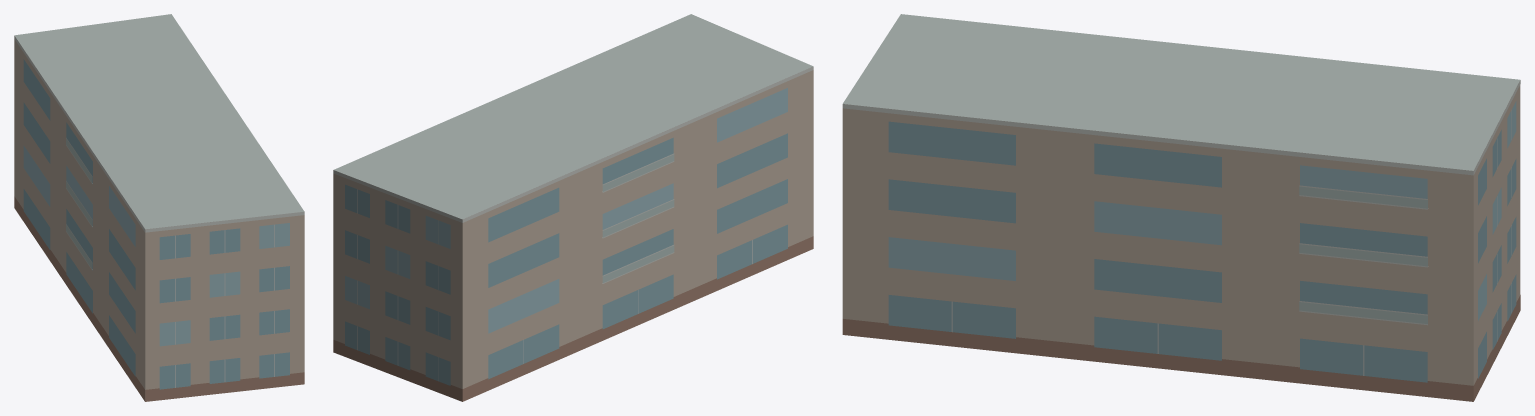
The model's file is survey-upis-32939369.glb.
3 renders of one model, left to right at view 1: azimuth 30°, elevation 25°; view 2: azimuth 150°, elevation 25°; view 3: azimuth 270°, elevation 25°, orthographic. The views are drawn at different scales.
Parts seen in each view (by area): view 1: survey-upis-32939369.tmp; view 2: survey-upis-32939369.tmp; view 3: survey-upis-32939369.tmp.
Part boxes in pixels (x1,y1,x2,y2): survey-upis-32939369.tmp: [14, 14, 304, 401]; survey-upis-32939369.tmp: [333, 14, 813, 401]; survey-upis-32939369.tmp: [842, 14, 1520, 401].
Bounding box in the file's own units: 18.37 × 12.6 × 33.53.
